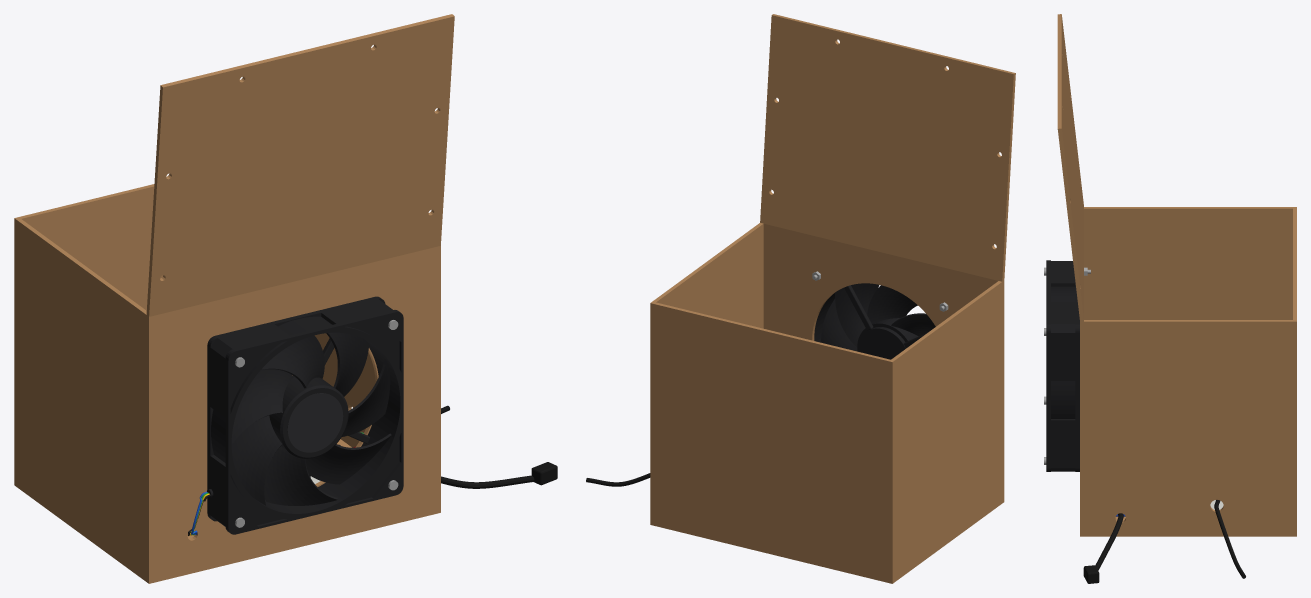
The model's file is assembly_simplified.glb.
3 views of the same model, side by side, from view 1: azimuth 30°, elevation 25°; view 2: azimuth 150°, elevation 25°; view 3: azimuth 270°, elevation 25° (orthographic). The views are drawn at different scales.
Visible parts, largest first — view 1: Box_Walls, Box_Lid_Flap, Fan_Frame, Fan_Rotor, Cable_12V_DC_In; view 2: Box_Walls, Box_Lid_Flap, Fan_Rotor, Fan_Frame; view 3: Box_Walls, Fan_Frame, Box_Lid_Flap, Cable_12V_DC_In, Cable_USB.
Part boxes in pixels (x1,y1,x2,y2): Box_Walls: [14, 184, 440, 583]; Box_Lid_Flap: [146, 14, 454, 316]; Fan_Frame: [207, 296, 403, 534]; Fan_Rotor: [231, 332, 391, 505]; Cable_12V_DC_In: [441, 462, 557, 488]; Box_Walls: [650, 223, 1004, 583]; Box_Lid_Flap: [760, 14, 1015, 281]; Fan_Rotor: [821, 283, 935, 351]; Fan_Frame: [814, 285, 927, 359]; Box_Walls: [1080, 207, 1296, 536]; Fan_Frame: [1046, 260, 1079, 471]; Box_Lid_Flap: [1057, 14, 1083, 321]; Cable_12V_DC_In: [1083, 513, 1123, 583]; Cable_USB: [1214, 500, 1245, 578].
Size of the model in its own units: 0.2836 by 0.3324 by 0.1866.
